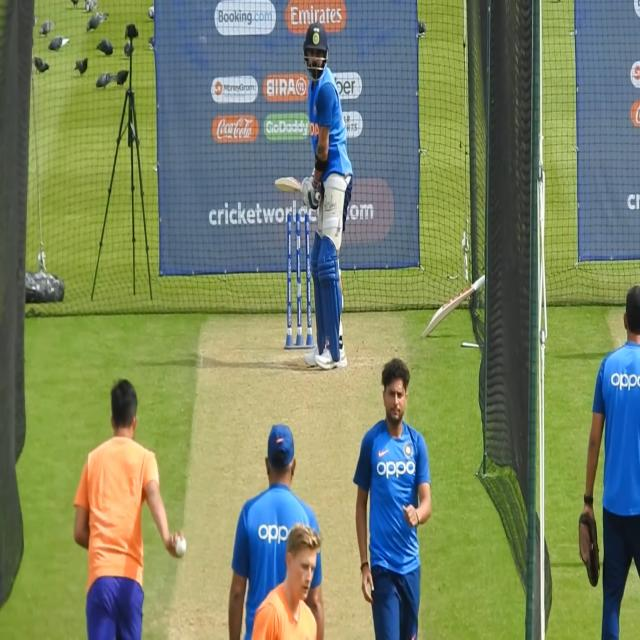stump: (282, 210, 314, 350)
